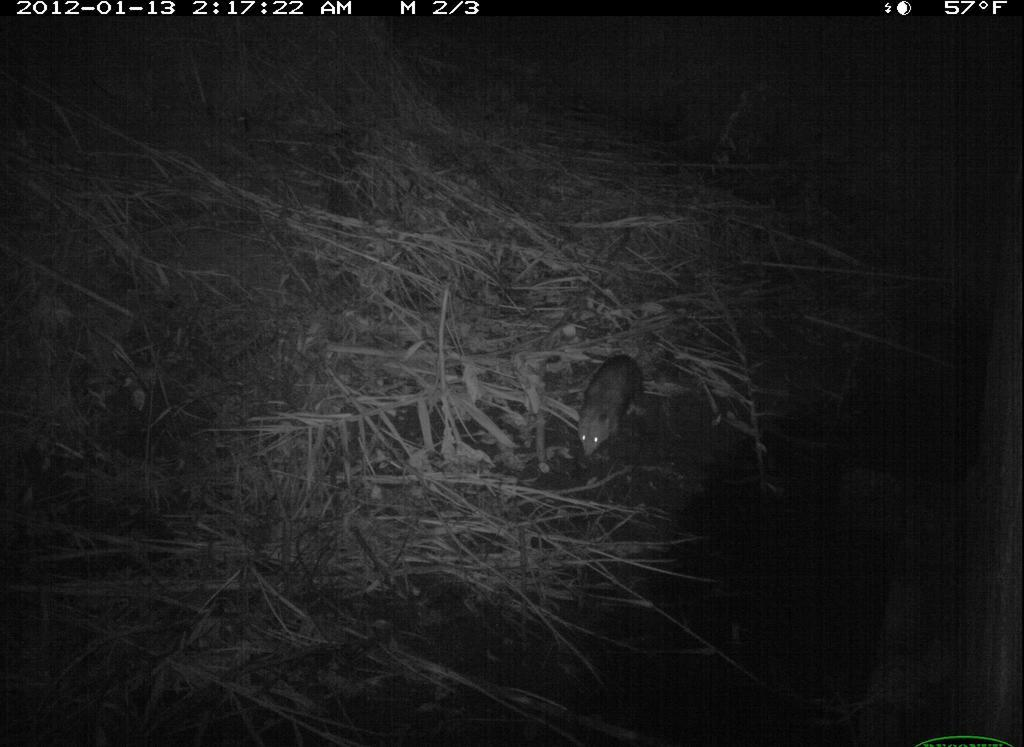opossum: (559, 344, 666, 464)
